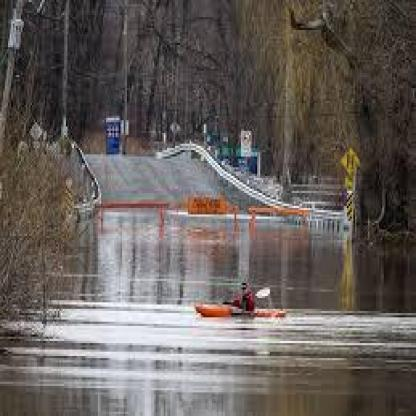other: (185, 190, 322, 229), (192, 298, 292, 328)
